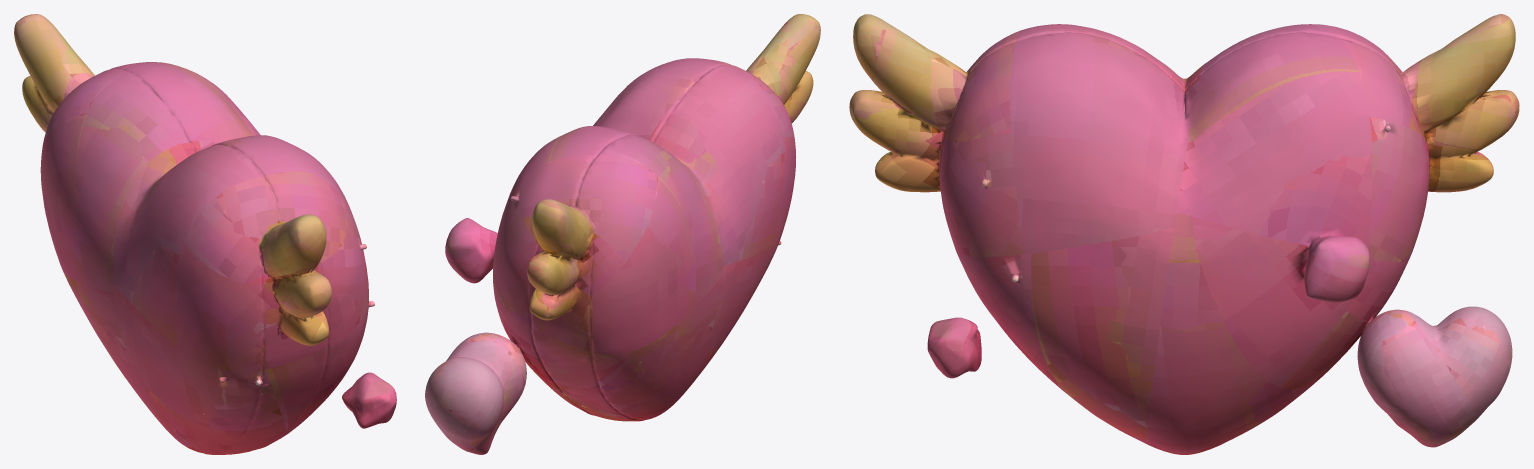
File: prop_heart.glb
The picture shows the model from 3 angles, left to right: view 1: azimuth 30°, elevation 25°; view 2: azimuth 150°, elevation 25°; view 3: azimuth 270°, elevation 25°; orthographic projection. The views are drawn at different scales.
Visible parts, largest first — view 1: tripo_node_1c7ac3a8-9523-4ab6-9f0f-1dd379796fe3; view 2: tripo_node_1c7ac3a8-9523-4ab6-9f0f-1dd379796fe3; view 3: tripo_node_1c7ac3a8-9523-4ab6-9f0f-1dd379796fe3.
Part boxes in pixels (bbox=[...]): tripo_node_1c7ac3a8-9523-4ab6-9f0f-1dd379796fe3: bbox=[14, 14, 396, 454]; tripo_node_1c7ac3a8-9523-4ab6-9f0f-1dd379796fe3: bbox=[425, 14, 820, 454]; tripo_node_1c7ac3a8-9523-4ab6-9f0f-1dd379796fe3: bbox=[849, 14, 1519, 454].
Size of the model in its own units: 0.4605 by 0.6413 by 0.9804.
1 material, 1 textured.
